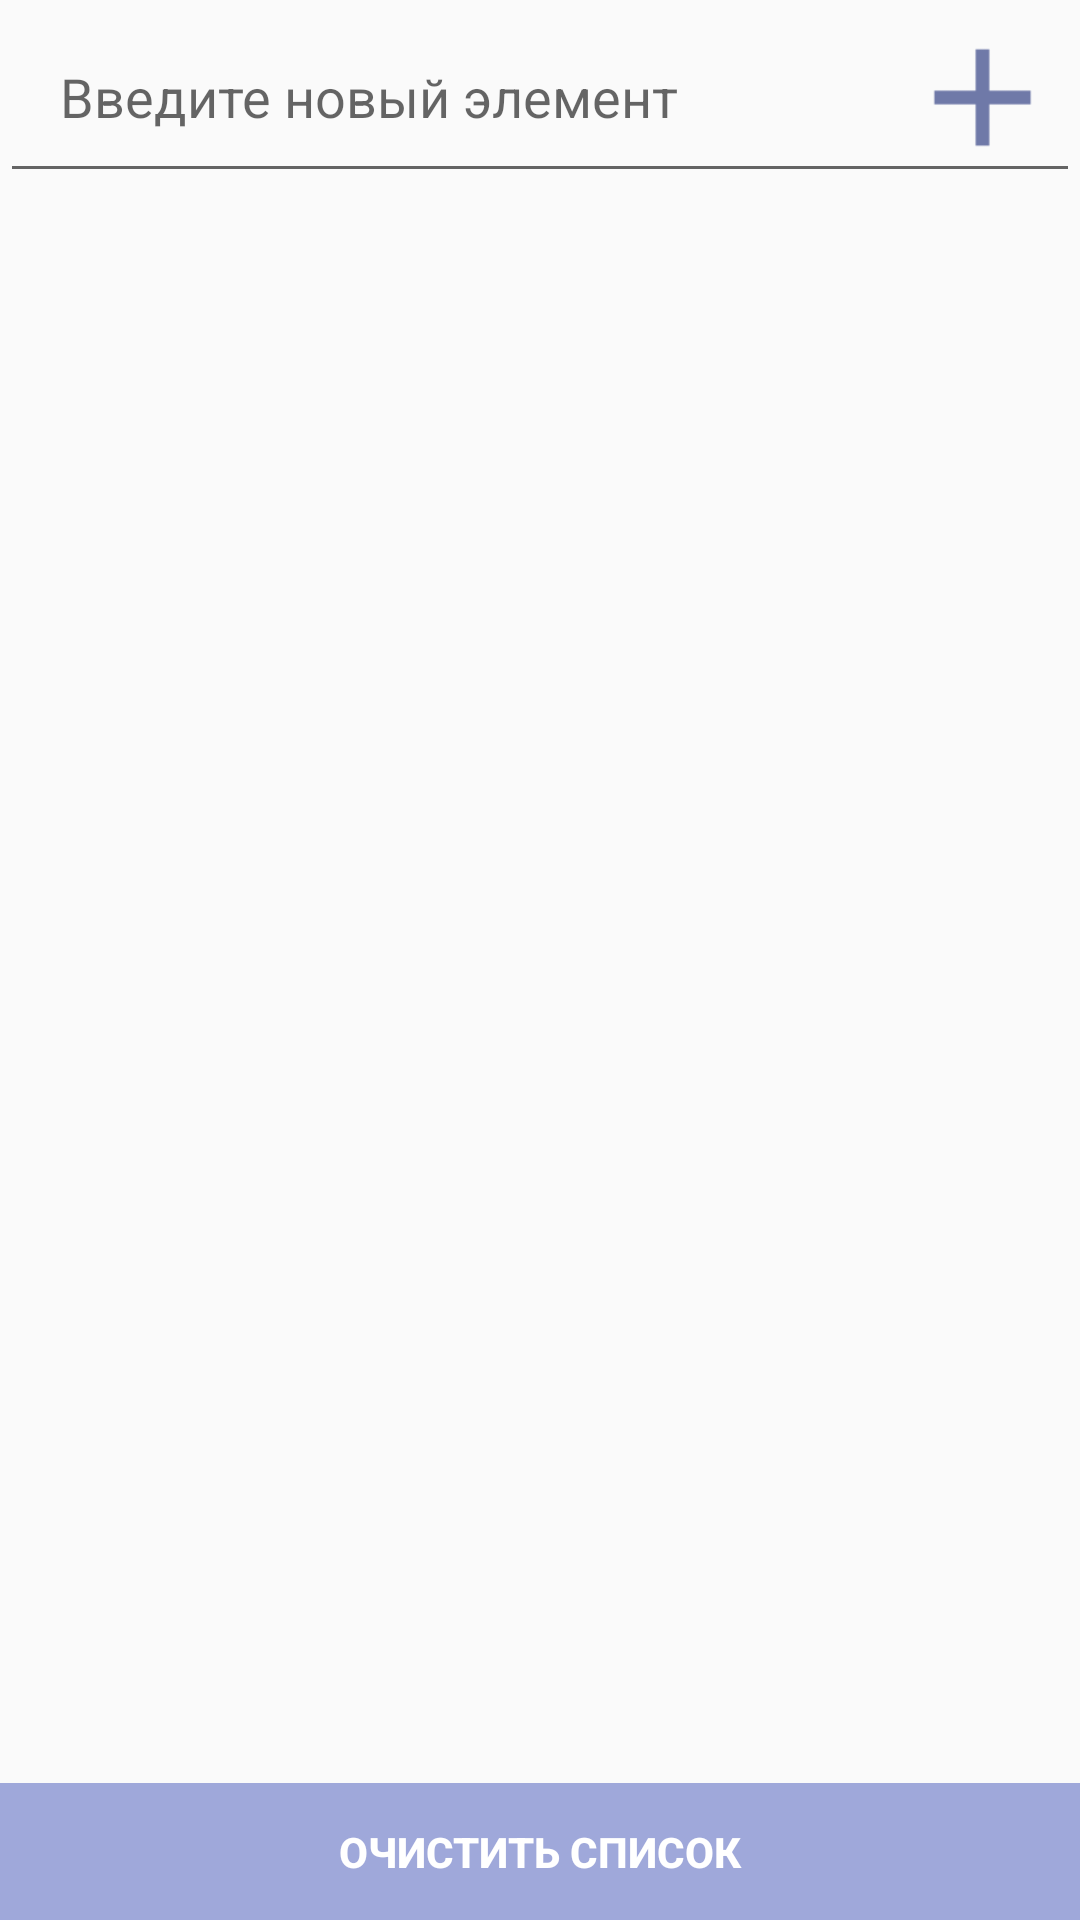

Named icons in this screenshot (1080 × 1920) and their centers, point (x, y):
add: point (982, 97)
